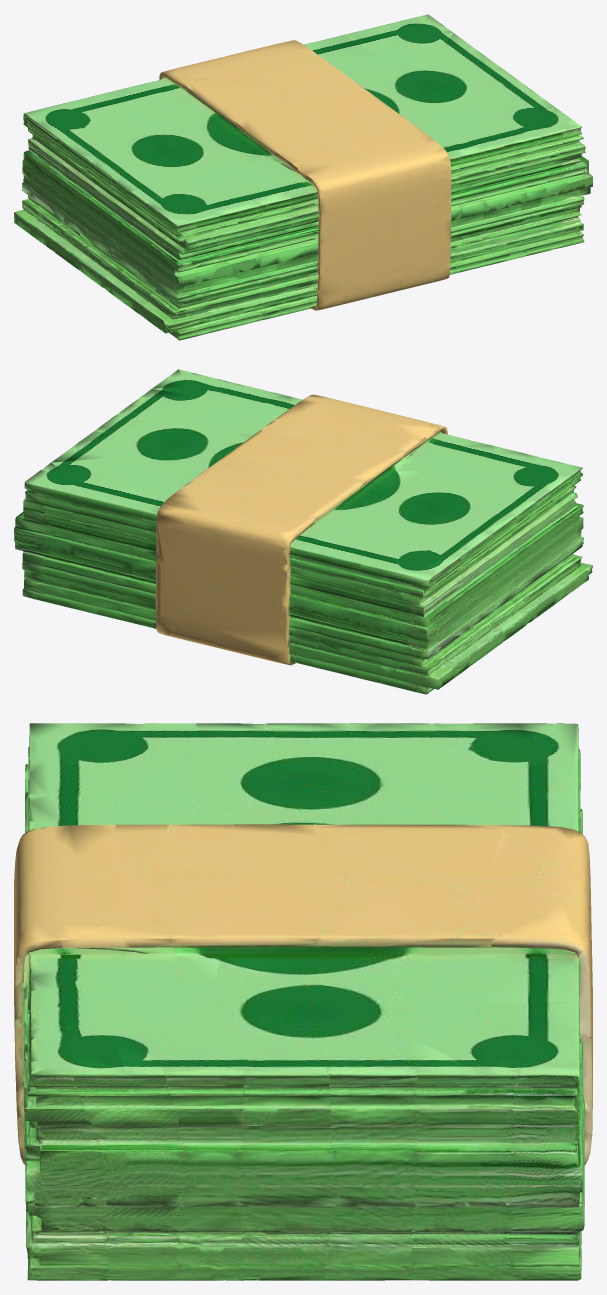
File: cash.glb
3 views of the same model, one above another, from view 1: azimuth 30°, elevation 25°; view 2: azimuth 150°, elevation 25°; view 3: azimuth 270°, elevation 25° (orthographic). The views are drawn at different scales.
Parts seen in each view (by area): view 1: Mesh_0; view 2: Mesh_0; view 3: Mesh_0.
Boxes of the visible parts, x1,y1,x2,y2 form: Mesh_0: [14, 14, 592, 340]; Mesh_0: [14, 369, 592, 694]; Mesh_0: [14, 723, 592, 1280].
Size of the model in its own units: 1.9 by 0.5734 by 1.26.
Materials: 1 (1 with a texture image).
